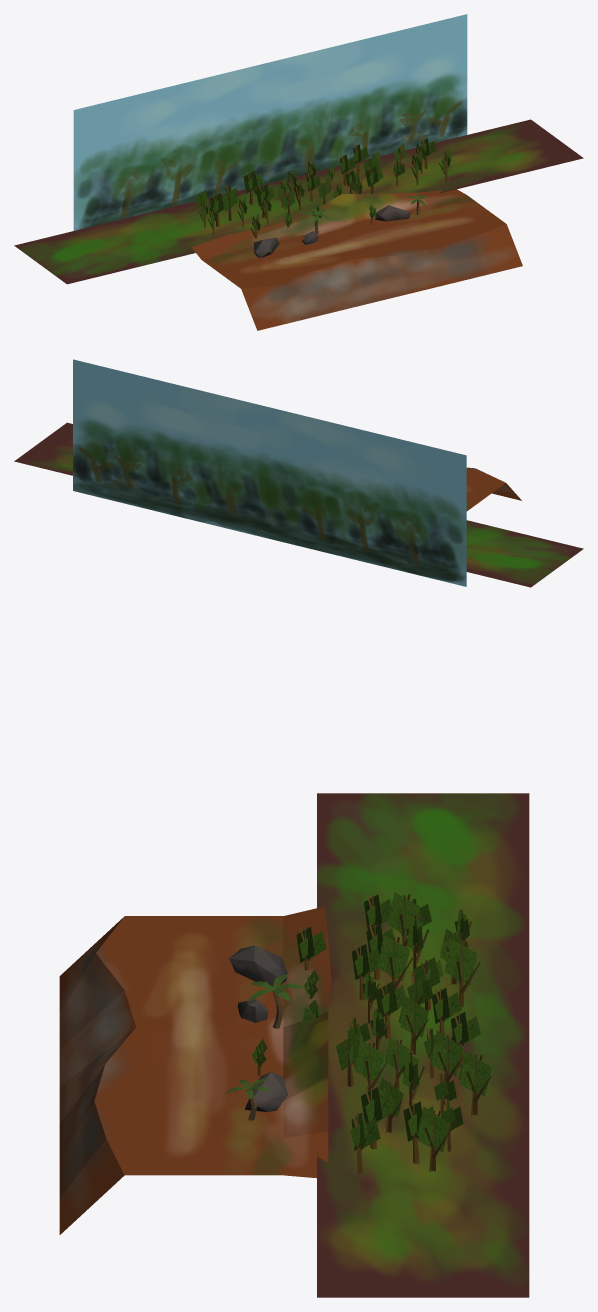
Rendered from phuoclong.fbx.
3 views of the same model, one above another, from view 1: azimuth 30°, elevation 25°; view 2: azimuth 150°, elevation 25°; view 3: azimuth 270°, elevation 25° (orthographic). The views are drawn at different scales.
Visible parts, largest first — view 1: Plane.001, land, land2; view 2: Plane.001, land2, land; view 3: land2, land, tree3.005, tree3.030, tree3.029, tree3.001, tree3.007, tree3.010, tree3.008, tree3.003, tree3.027, tree3.028 (+1 smaller).
Part boxes in pixels (x1,y1,x2,y2): Plane.001: (73, 14, 467, 230); land: (192, 189, 522, 330); land2: (14, 119, 583, 284); Plane.001: (73, 359, 466, 586); land2: (14, 422, 583, 587); land: (466, 467, 521, 511); land2: (317, 793, 529, 1297); land: (59, 906, 331, 1234); tree3.005: (444, 939, 480, 1007); tree3.030: (458, 1050, 491, 1115); tree3.029: (416, 1106, 449, 1172); tree3.001: (377, 935, 412, 990); tree3.007: (430, 1030, 463, 1083); tree3.010: (354, 1040, 387, 1091); tree3.008: (398, 996, 428, 1054); tree3.003: (387, 892, 423, 946); tree3.027: (350, 1112, 380, 1174); tree3.028: (361, 1087, 394, 1149).
Bounding box in the file's own units: 15485 × 4259 × 6211.
